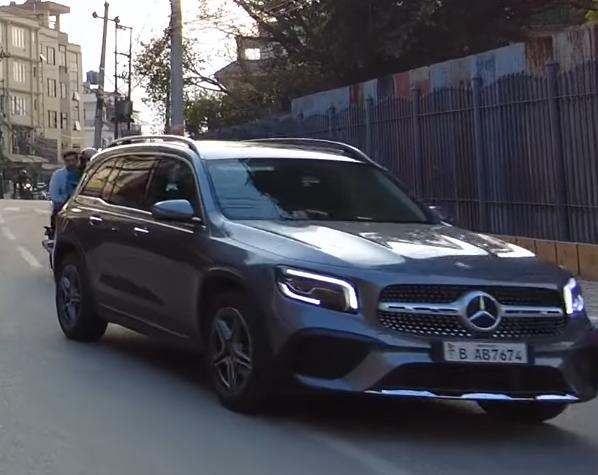car: (39, 136, 594, 419)
